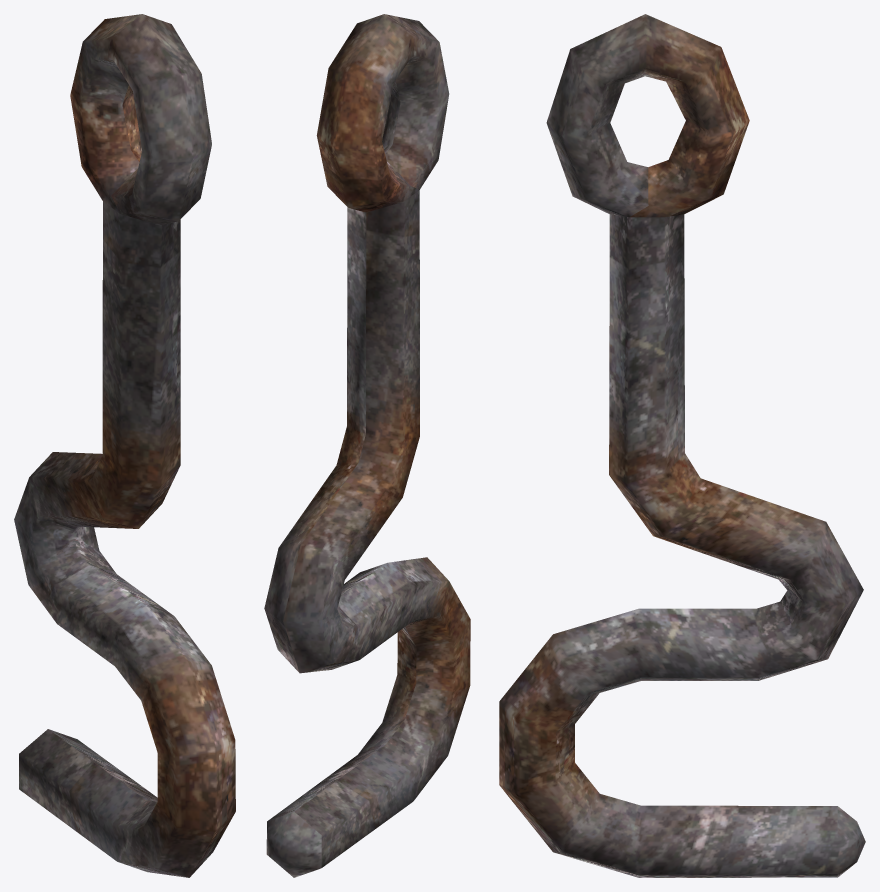
Rendered from meat_hook.dae.
3 renders of one model, left to right at view 1: azimuth 30°, elevation 25°; view 2: azimuth 150°, elevation 25°; view 3: azimuth 270°, elevation 25°, orthographic. The views are drawn at different scales.
Parts seen in each view (by area): view 1: headusOBJexport; view 2: headusOBJexport; view 3: headusOBJexport.
Boxes of the visible parts, x1,y1,x2,y2 form: headusOBJexport: [14, 14, 235, 877]; headusOBJexport: [264, 14, 470, 877]; headusOBJexport: [499, 14, 865, 877].
Bounding box in the file's own units: 0.0294 × 0.3941 × 0.1517.
